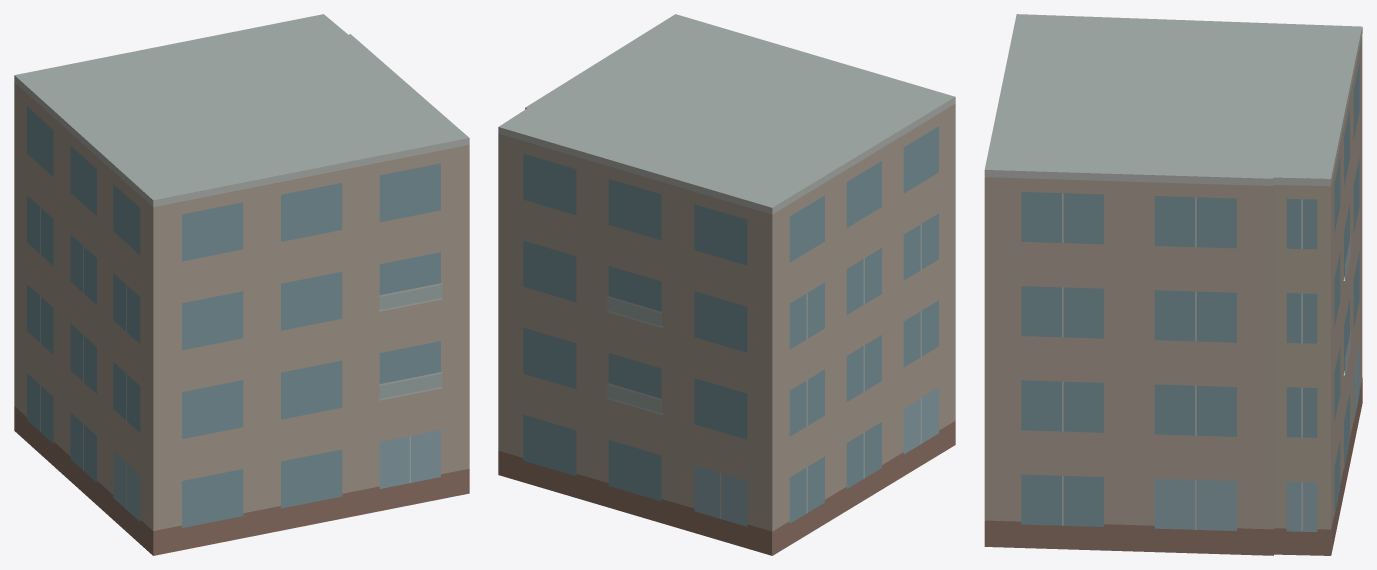
The model's file is survey-upis-33018738.glb.
3 views of the same model, side by side, from view 1: azimuth 30°, elevation 25°; view 2: azimuth 150°, elevation 25°; view 3: azimuth 270°, elevation 25° (orthographic). The views are drawn at different scales.
Parts seen in each view (by area): view 1: survey-upis-33018738.tmp; view 2: survey-upis-33018738.tmp; view 3: survey-upis-33018738.tmp.
Boxes of the visible parts, x1=… form: survey-upis-33018738.tmp: x1=14, y1=14, x2=469, y2=555; survey-upis-33018738.tmp: x1=498, y1=14, x2=955, y2=555; survey-upis-33018738.tmp: x1=984, y1=14, x2=1362, y2=555.
Bounding box in the file's own units: 11.83 × 12.6 × 11.46.
